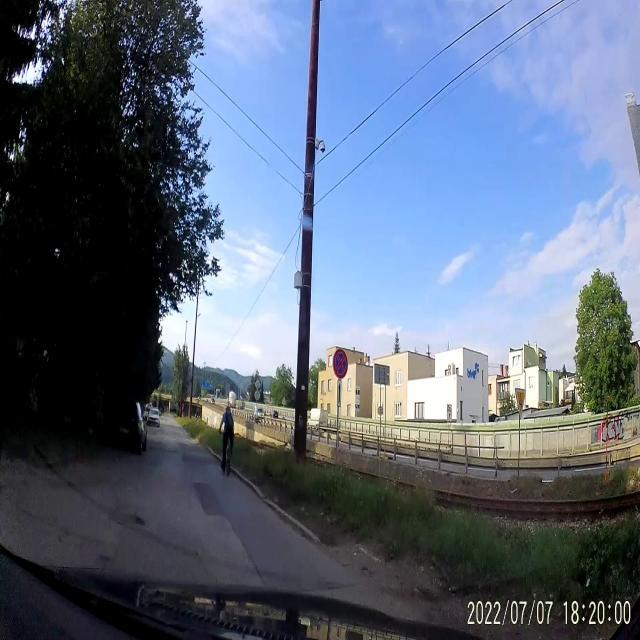Pothole: (114, 507, 149, 531)
